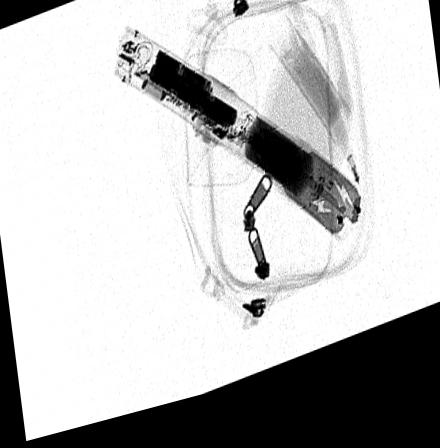Baton: (112, 29, 362, 255)
